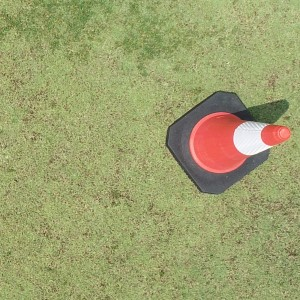traffic cone: (165, 90, 289, 194)
